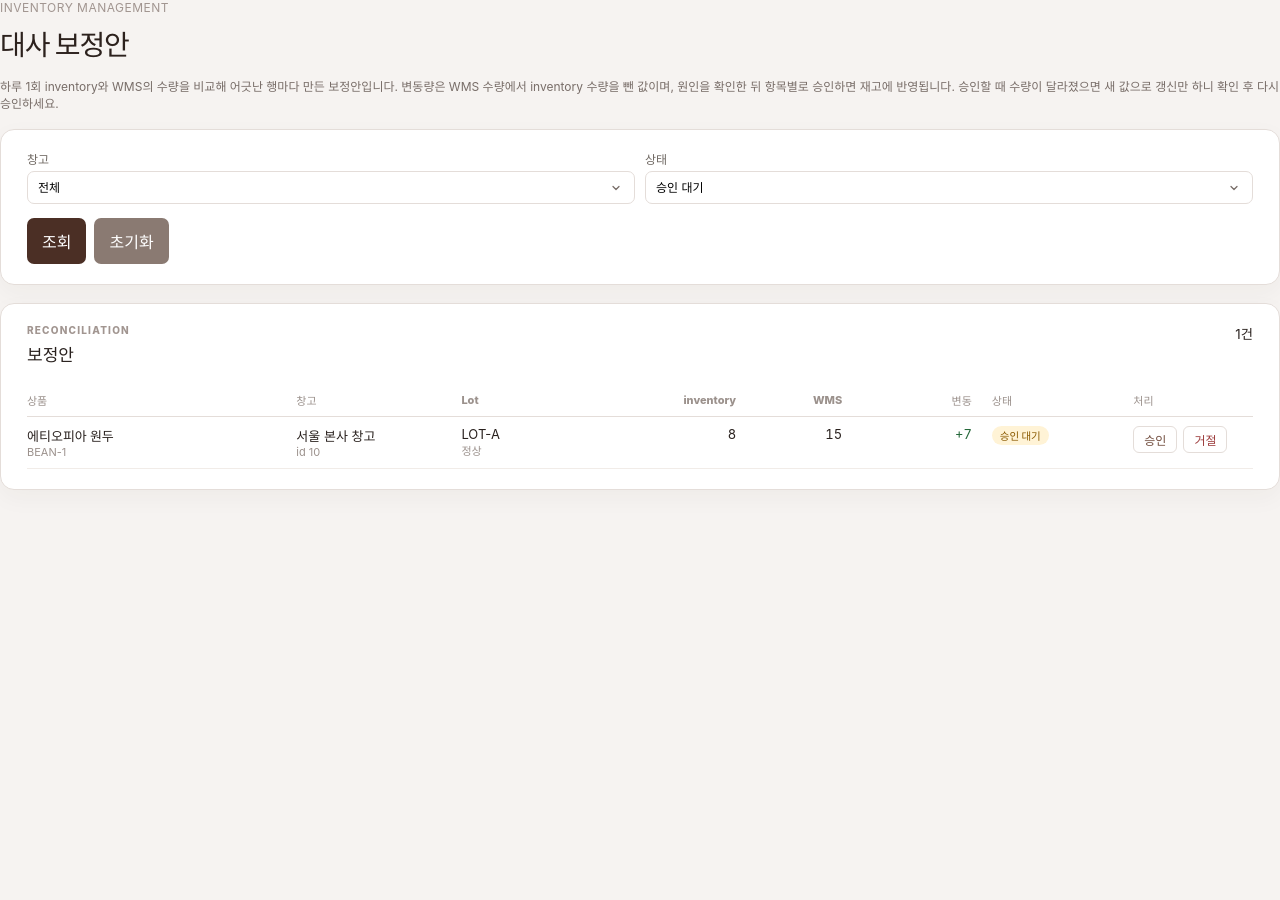
Test: ReconciliationsPage › 승인·거절 › 거절 확인창도 같은 모양으로 보여주고 수량이 바뀌지 않는다고 안내하며 늘어난 변동은 +로 표시한다
Click the button with aria-label "에티오피아 원두 LOT-A 거절". click: (1205,440)
box: [1183,426,1228,453]
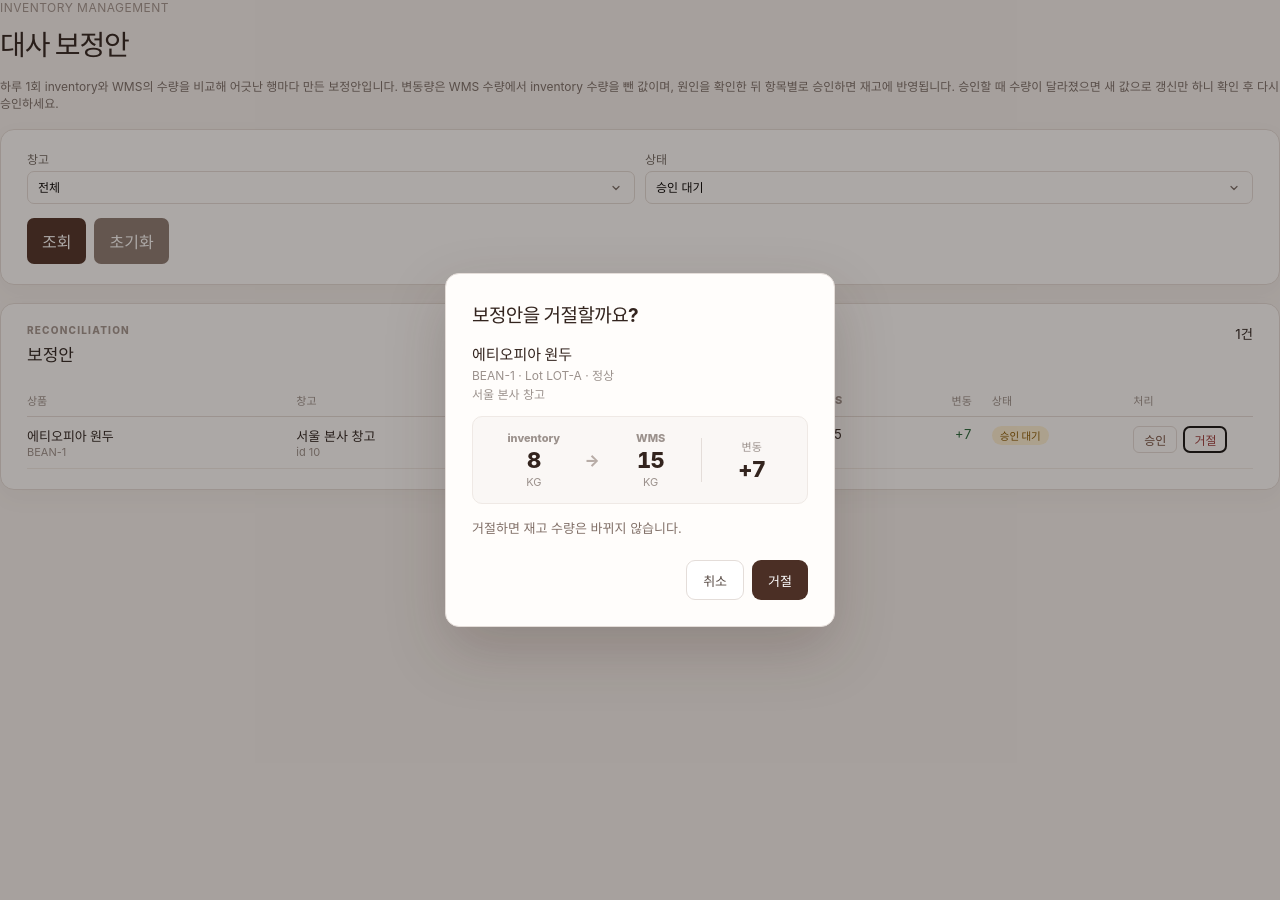
Now the text "+7" is shown, box [738,456,765,482]
Now the text "거절하면 재고 수량은 바뀌지 않습니다." is shown, box [472,520,682,536]
